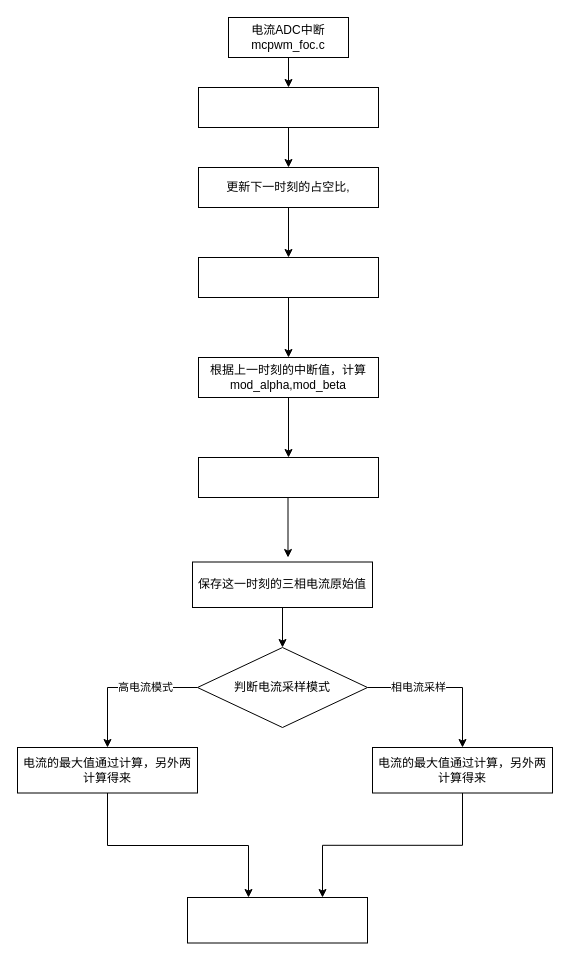
This 570x961 diagram has some shape labels left out. Here are the shapes that lost their labels. From the top down, the centre of each, then its label:
[288,107]: 根据ADC值，计算两相电流值
[288,277]: 计算Ialpha，Ibeta
[288,477]: 根据mod_alpha,mod_beta，计算占空比，（没有映射到输出）
[277,919]: 电流滤波
